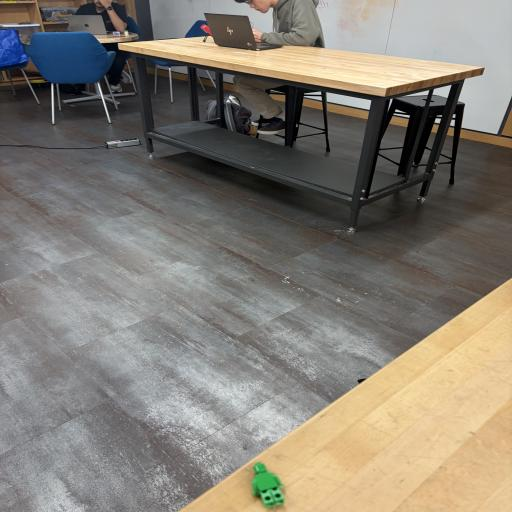Green-Lego: (252, 462, 285, 508)
